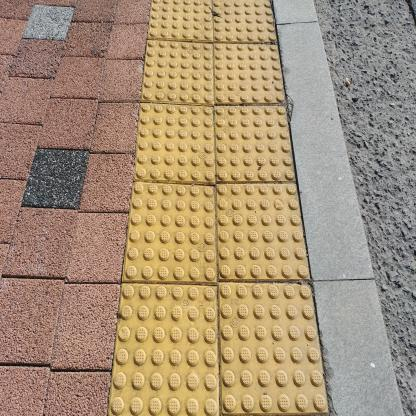podotacti: (100, 0, 335, 415)
